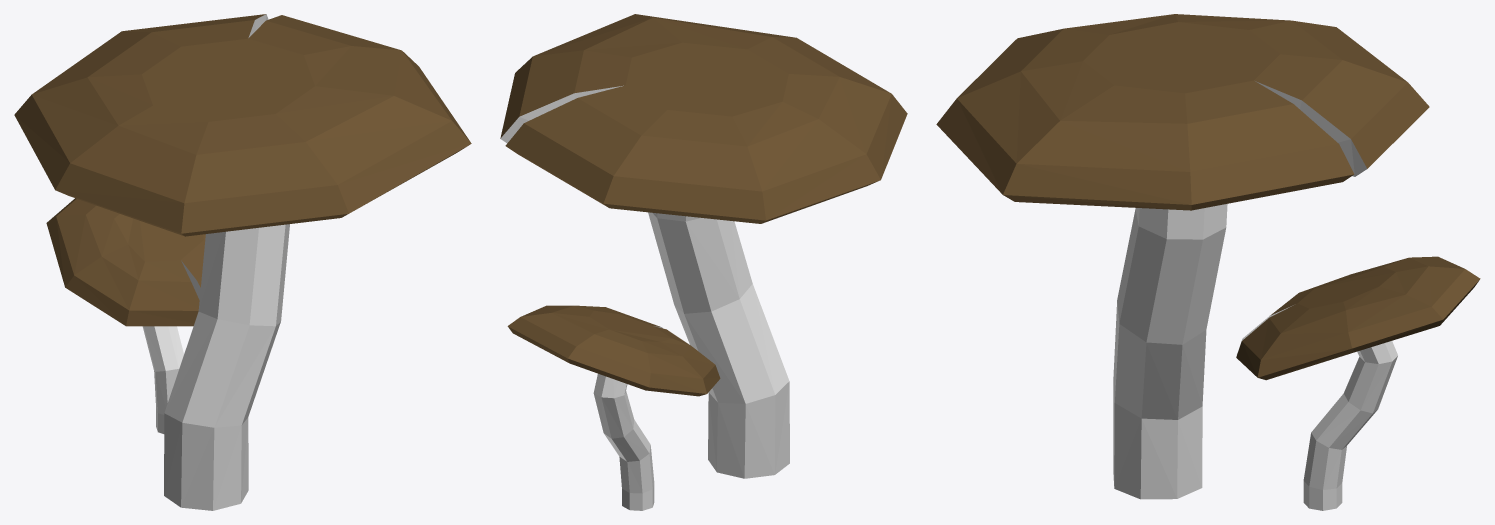
Rendered from mushroom-2.fbx.
3 renders of one model, left to right at view 1: azimuth 30°, elevation 25°; view 2: azimuth 150°, elevation 25°; view 3: azimuth 270°, elevation 25°, orthographic. The views are drawn at different scales.
Visible parts, largest first — view 1: Cylinder.002, Cylinder.005; view 2: Cylinder.002, Cylinder.005; view 3: Cylinder.002, Cylinder.005.
Part boxes in pixels (bbox=[...]): Cylinder.002: bbox=[14, 14, 471, 510]; Cylinder.005: bbox=[46, 198, 205, 433]; Cylinder.002: bbox=[500, 14, 907, 478]; Cylinder.005: bbox=[507, 305, 720, 510]; Cylinder.002: bbox=[936, 14, 1429, 499]; Cylinder.005: bbox=[1236, 256, 1480, 510].
Size of the model in its own units: 1264 by 1305 by 1441.
